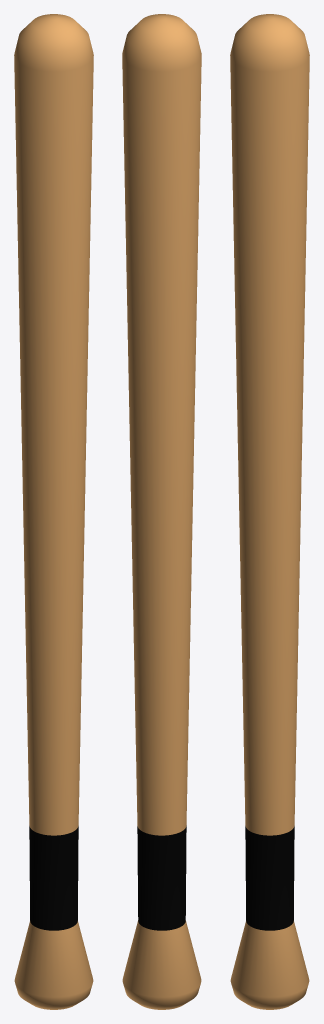
File: BaseballBat.fbx
3 renders of one model, left to right at view 1: azimuth 90°, elevation 25°; view 2: azimuth 150°, elevation 25°; view 3: azimuth 270°, elevation 25°, orthographic.
Parts seen in each view (by area): view 1: BaseballBat; view 2: BaseballBat; view 3: BaseballBat.
Boxes of the visible parts, x1,y1,x2,y2 form: BaseballBat: (14, 14, 93, 1009); BaseballBat: (122, 14, 201, 1009); BaseballBat: (230, 14, 309, 1009).
Bounding box in the file's own units: 9.62 × 131 × 9.62.
